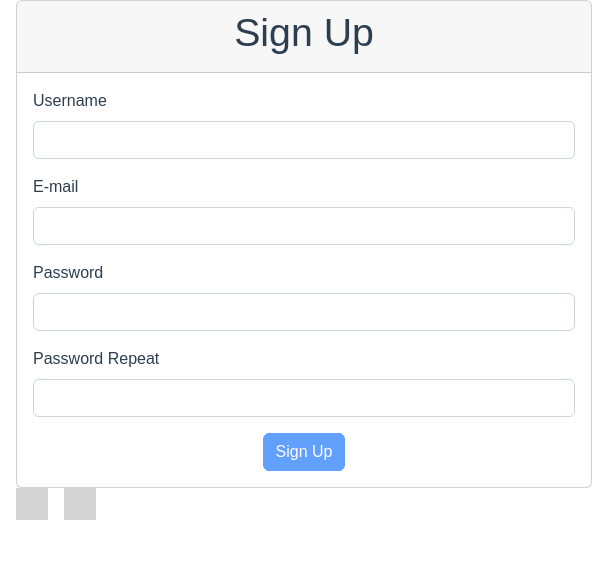
Test: Sign Up Page › Interactions › displays account activation information after successful sign up request
The image size is (609, 562).
Step 1. Type "user1" into the field labelled "Username" → x=304, y=140, box [33,121,575,159]
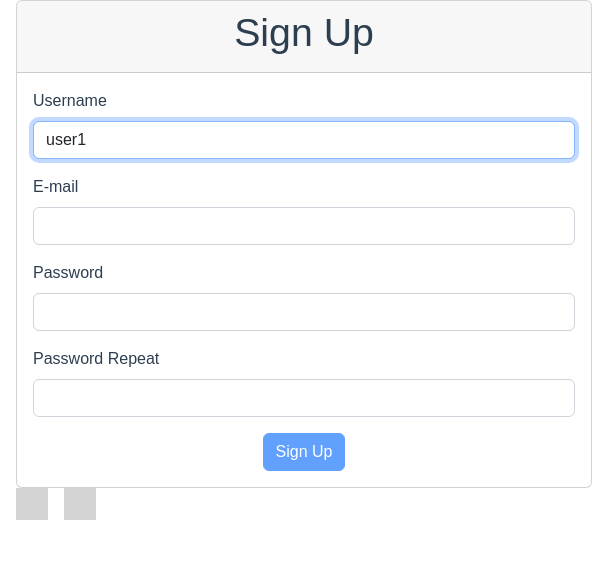
Step 2. Type "user1@gmail.com" into the field labelled "E-mail" → x=304, y=226, box [33,207,575,245]
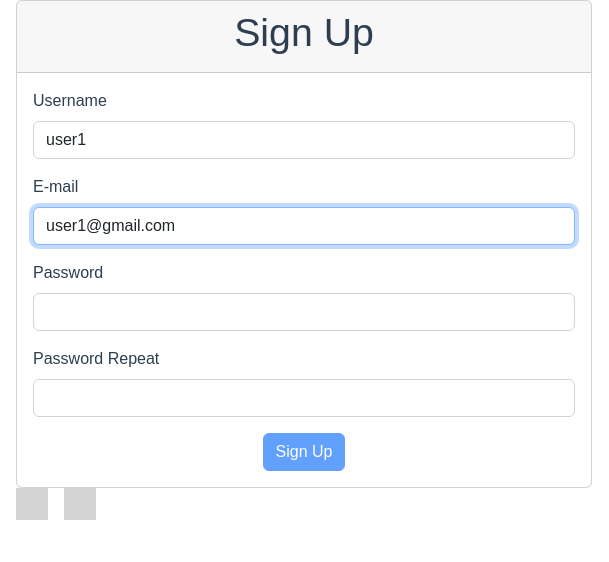
Step 3. Type "P4ssword" into the password field labelled "Password" → x=304, y=312, box [33,293,575,331]
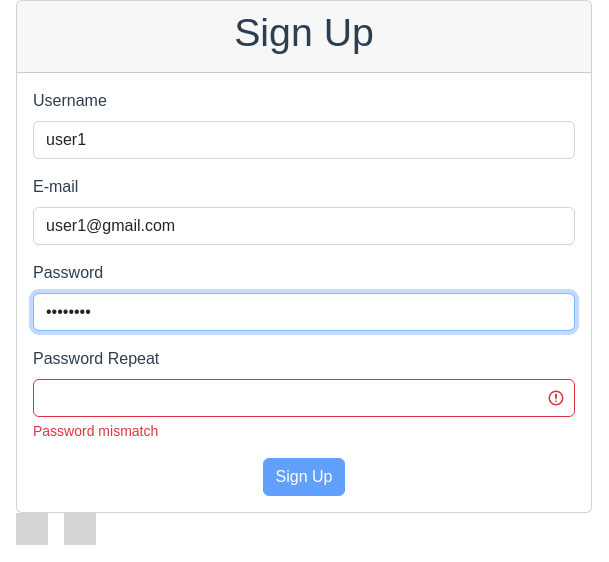
Step 4. Type "P4ssword" into the password field labelled "Password Repeat" → x=304, y=398, box [33,379,575,417]
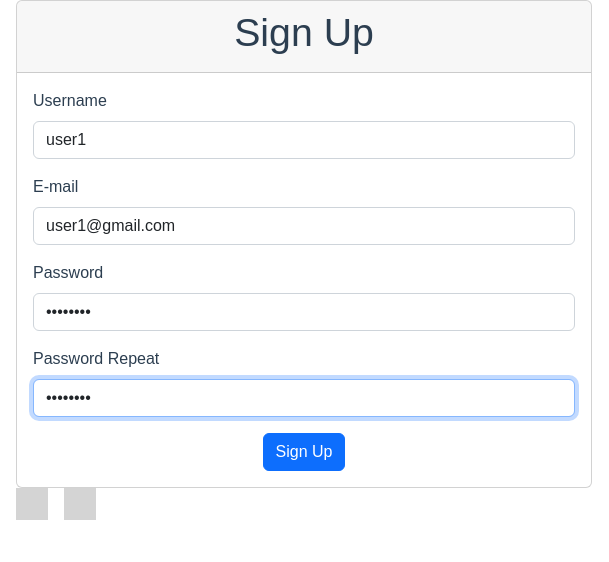
Step 5. Click the button "Sign Up" → x=304, y=452, box [262,433,345,471]
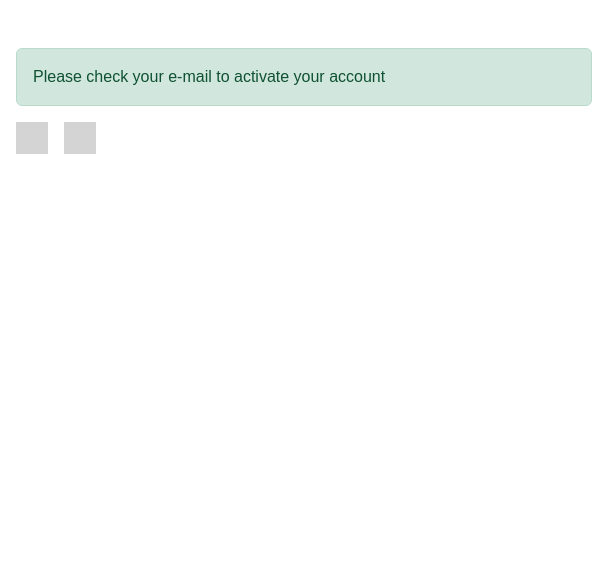
Now the text "Please check your e-mail to activate your account" is shown, box [16,48,592,106]
